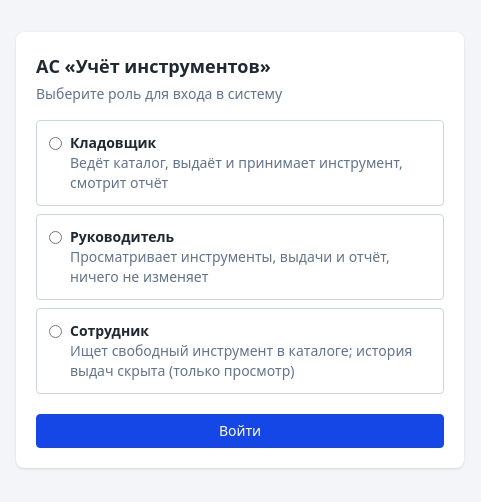
role-based access › sends an anonymous visitor to the login page and refuses sign-in without a role
The width and height of the screenshot is (481, 502).
Expected: the radio button labelled "Кладовщик" is shown, [49,137,62,150]
Click the button "Войти": (240, 431) [36,414,444,448]
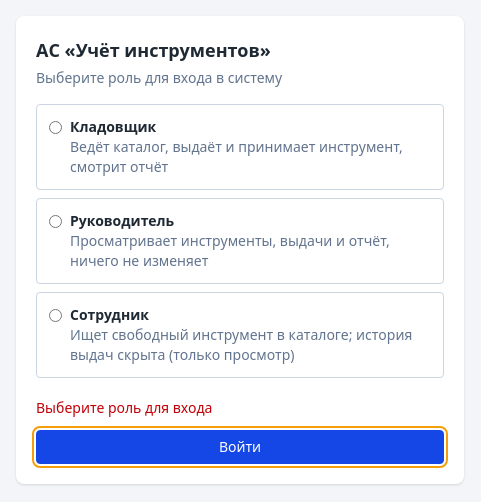
Now the message reads "Выберите роль для входа", box [36,398,212,417]
